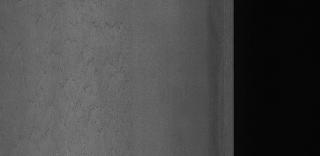silk spot: (27, 19, 137, 132)
